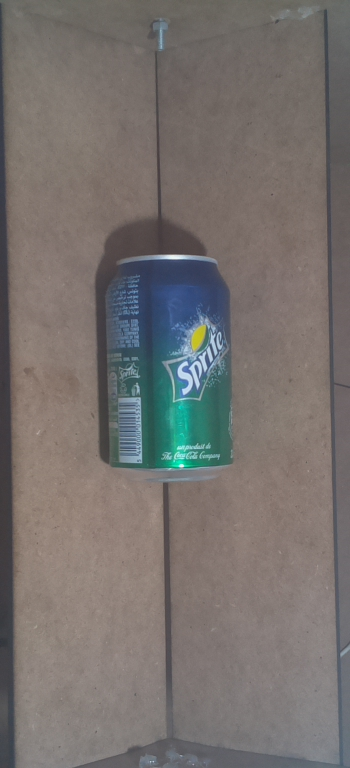Canette: (96, 247, 248, 493)
